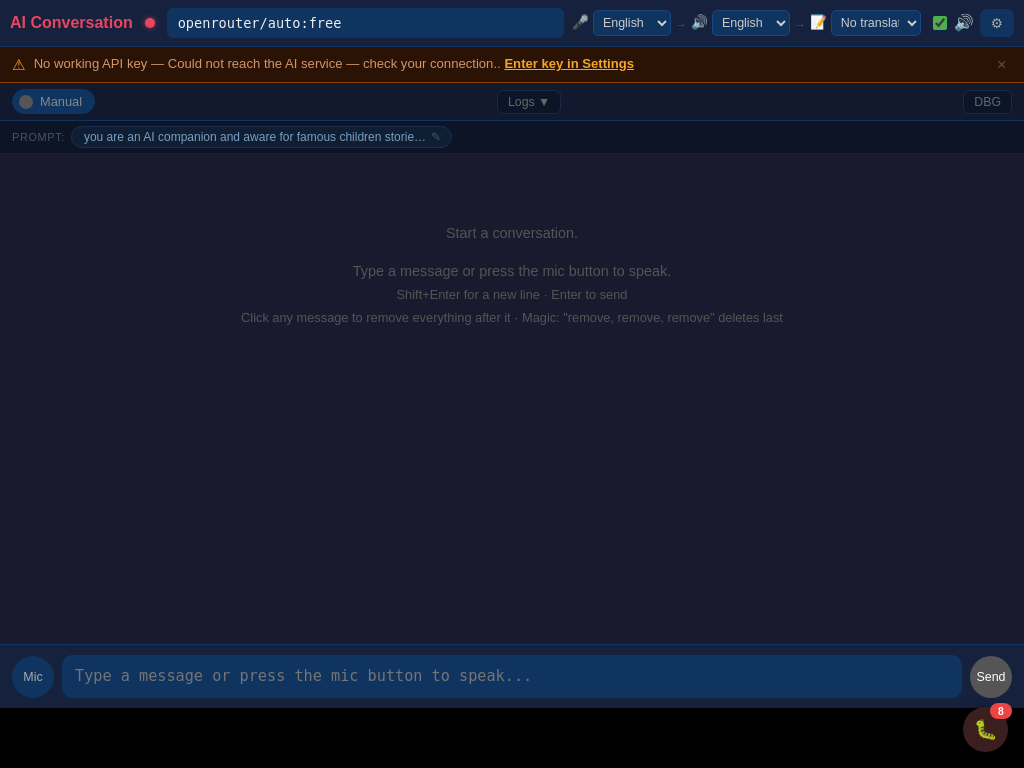
Test case: Debug Mode › toggles debug mode on when clicking DBG button
Note: Click to enable
Click the button "DBG" at (988, 102), box [963,90,1012,114]
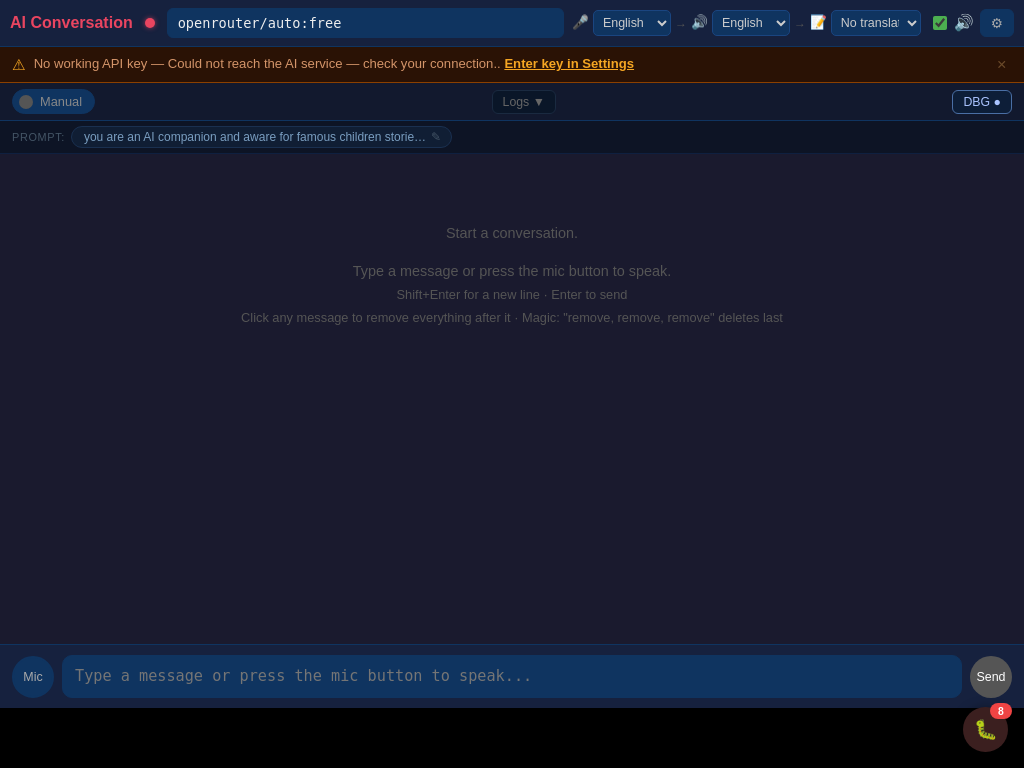
Now the button "DBG ●" is shown, box [952,90,1012,114]
